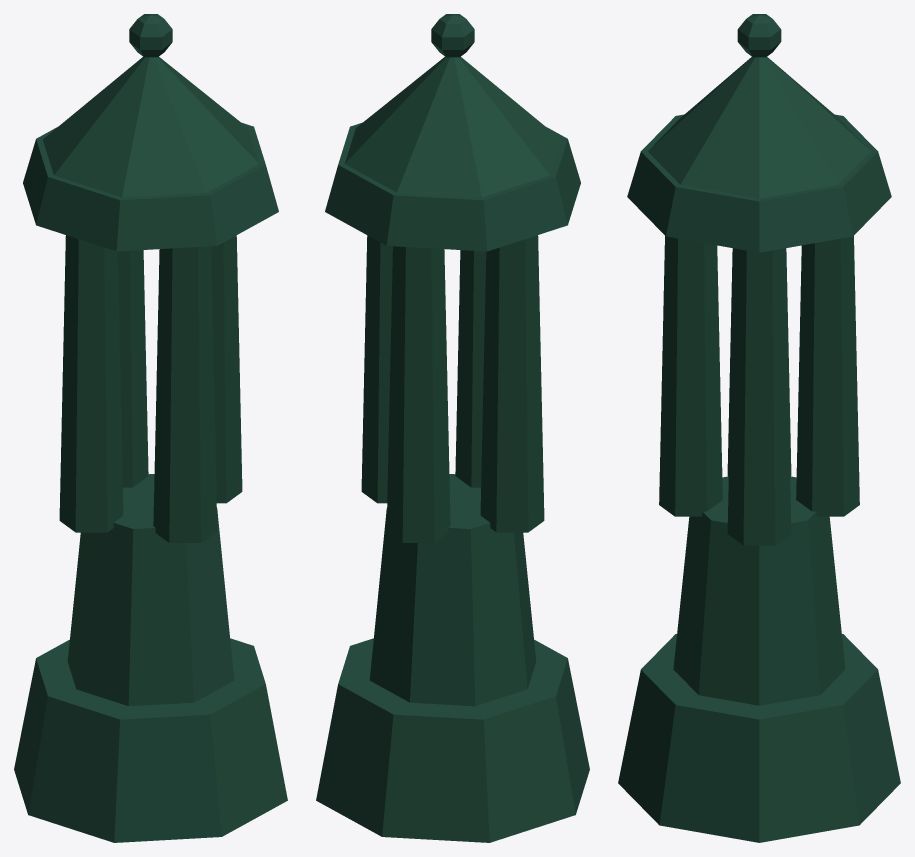
The model's file is wallace_fountain.glb.
3 views of the same model, side by side, from view 1: azimuth 30°, elevation 25°; view 2: azimuth 150°, elevation 25°; view 3: azimuth 270°, elevation 25° (orthographic).
Visible parts, largest first — view 1: wallace_fountain; view 2: wallace_fountain; view 3: wallace_fountain.
Part boxes in pixels (x1,y1,x2,y2): wallace_fountain: (14,14,287,842); wallace_fountain: (316,14,589,842); wallace_fountain: (618,14,900,842).
Bounding box in the file's own units: 1.24 × 3.71 × 1.24.
